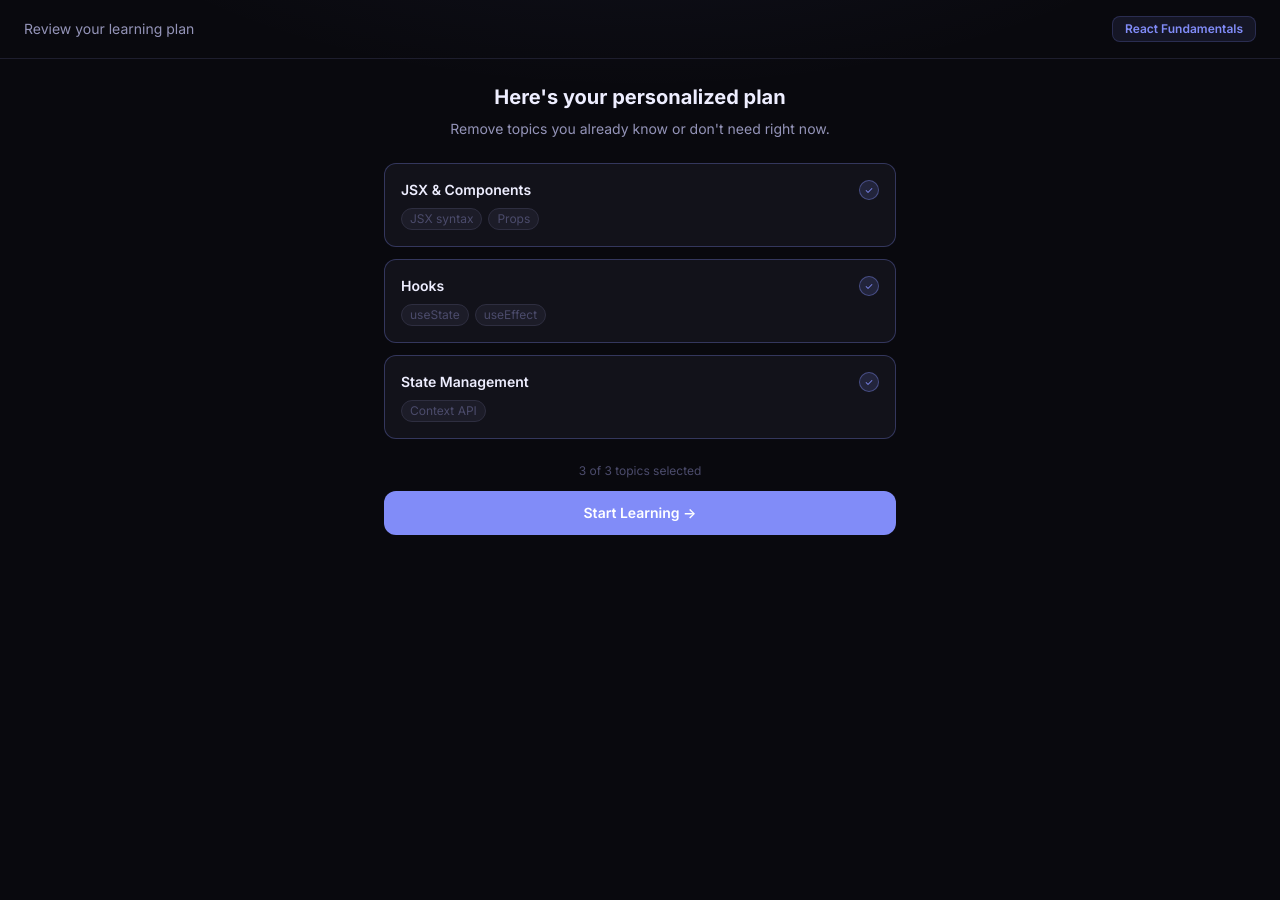
Scenario: TopicApprovalScreen — toggling items › clicking a disabled item re-enables it
Click the text "Hooks" at [423, 286], box [401,276,444,296]
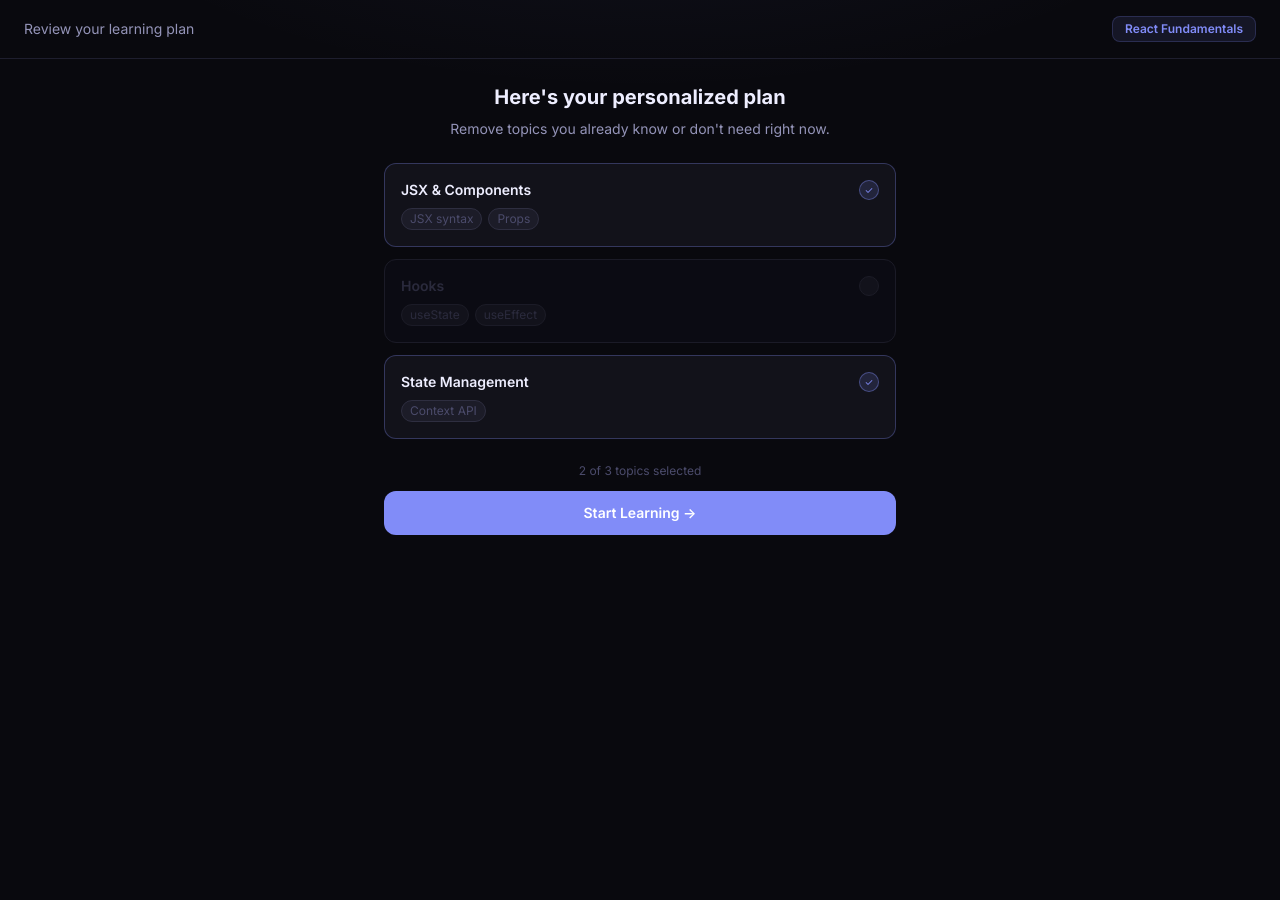
Result: the text "2 of 3 topics selected" is shown at [579,463,701,479]
Click the text "Hooks" at [423, 286], box [401,276,444,296]
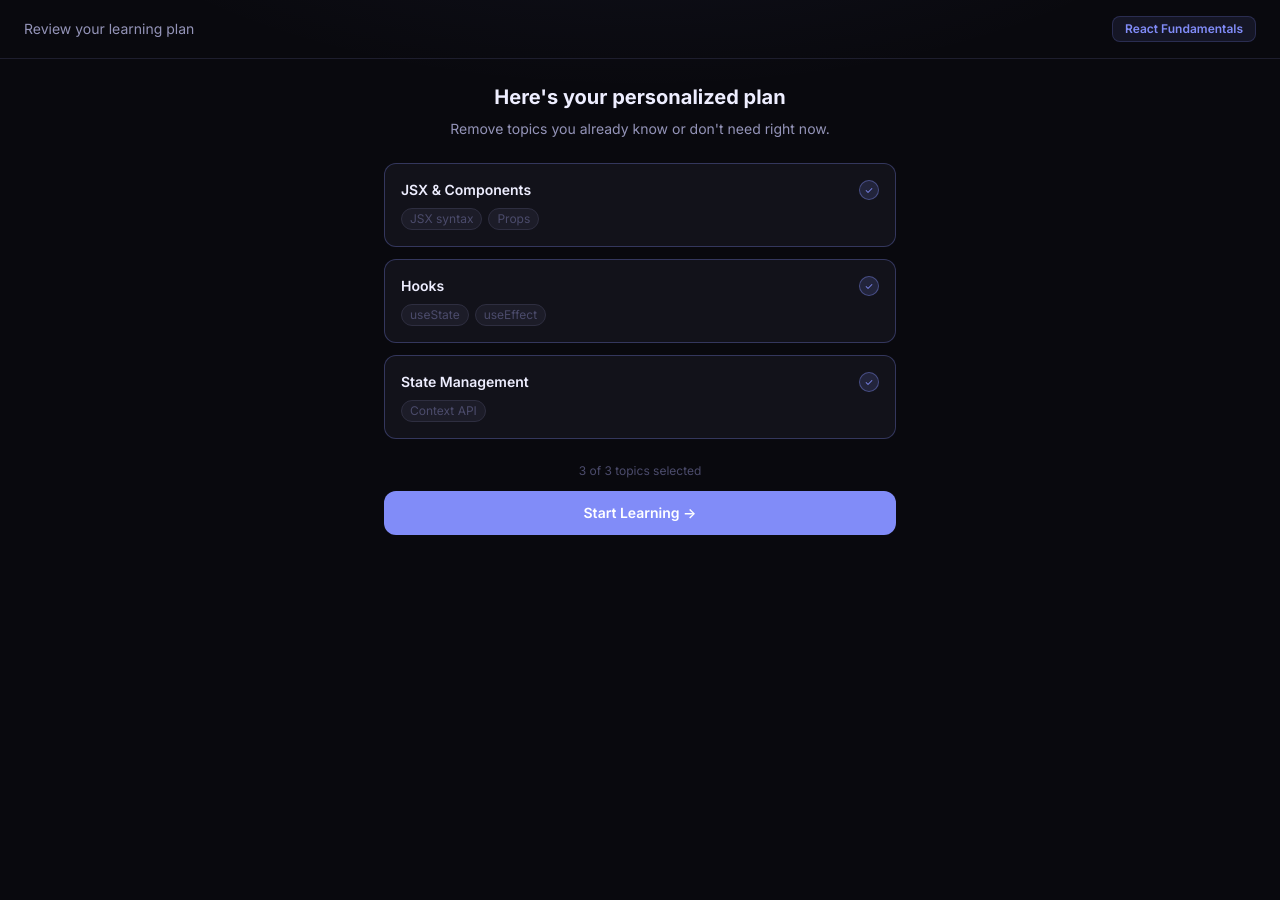
Result: the text "3 of 3 topics selected" is shown at [579,463,701,479]
